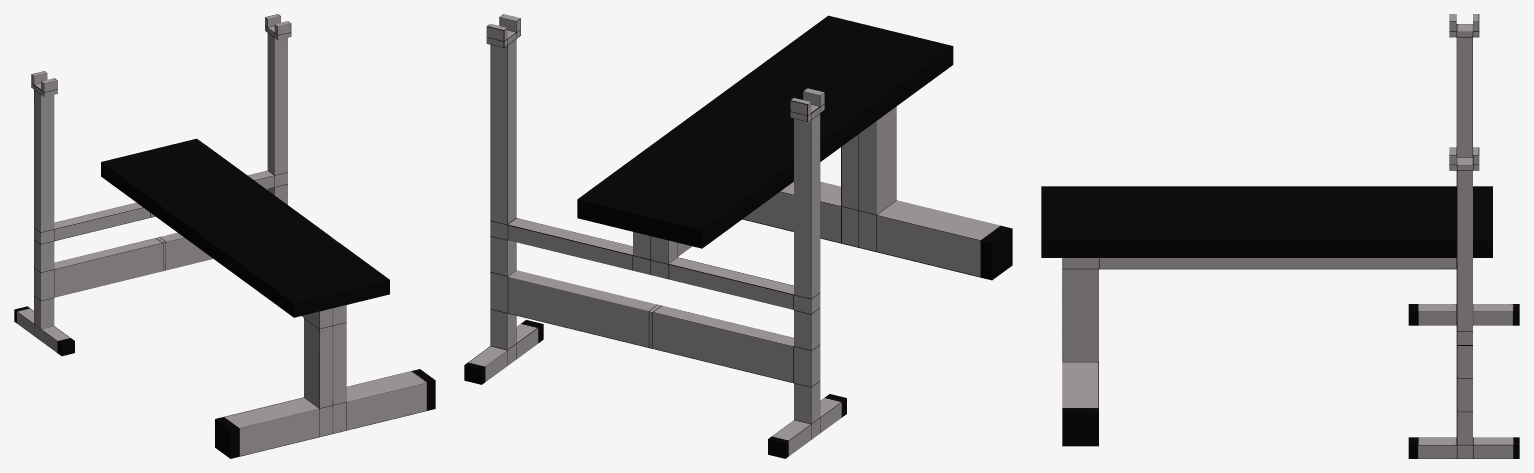
The model's file is bennripres1.fbx.
3 renders of one model, left to right at view 1: azimuth 30°, elevation 25°; view 2: azimuth 150°, elevation 25°; view 3: azimuth 270°, elevation 25°, orthographic. The views are drawn at different scales.
Parts seen in each view (by area): view 1: 立方体; view 2: 立方体; view 3: 立方体.
Boxes of the visible parts, x1,y1,x2,y2 form: 立方体: (14,14,435,458); 立方体: (464,14,1012,458); 立方体: (1041,14,1519,458).
Size of the model in its own units: 668 by 673 by 959.
1 material, 1 textured.
